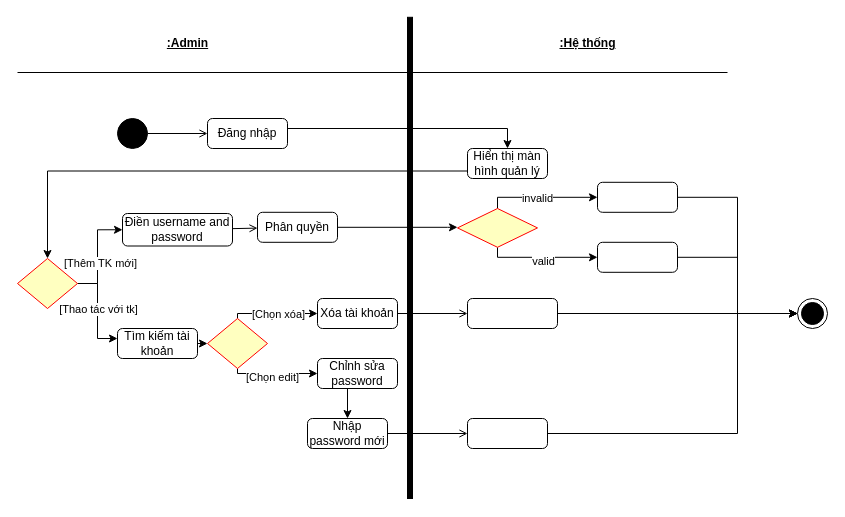
Some shapes in this 845 by 517 pixel diagram are drawn without their labels. The centre of each missing label's shape, as x and y in pixels:
"Báo lỗi" belongs at pixel 637 196.
"Cập nhật danh sách user" belongs at pixel 512 313.
"Cập nhật password mới" belongs at pixel 507 433.
"Lưu thông tin tài khoản" belongs at pixel 637 256.
